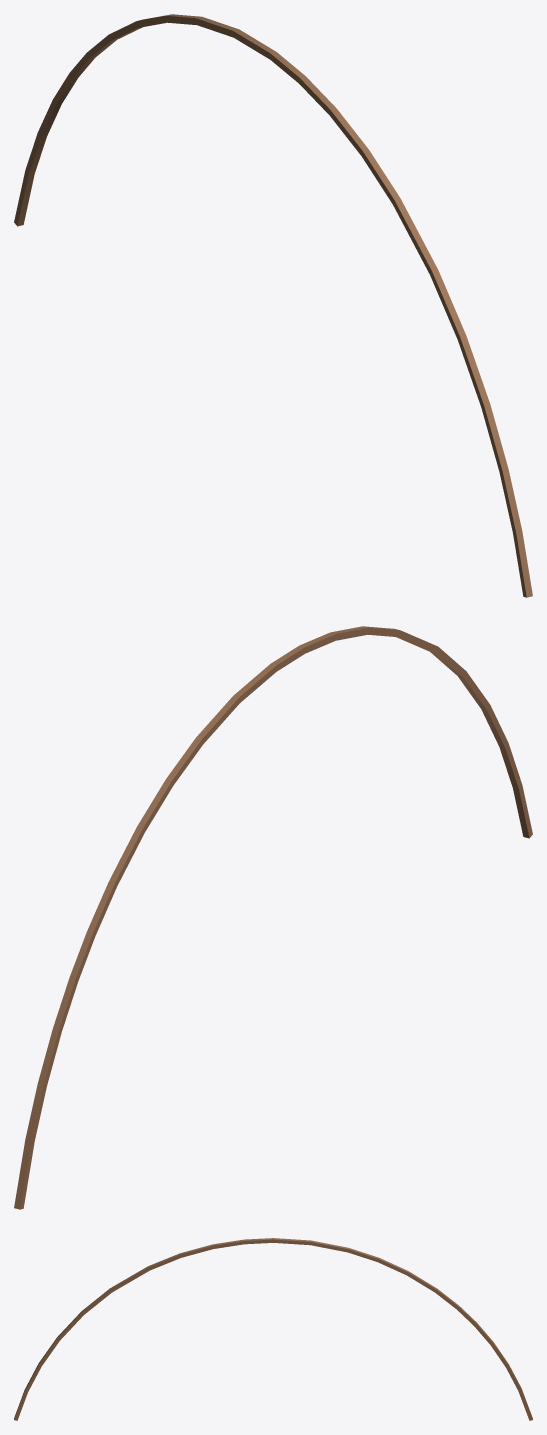
File: S_Metal_Stem_08.fbx
3 renders of one model, top to bottom at view 1: azimuth 30°, elevation 25°; view 2: azimuth 150°, elevation 25°; view 3: azimuth 270°, elevation 25°, orthographic. The views are drawn at different scales.
Visible parts, largest first — view 1: S_Metal_Stem_08; view 2: S_Metal_Stem_08; view 3: S_Metal_Stem_08.
Boxes of the visible parts, bbox=[...] form: S_Metal_Stem_08: bbox=[14, 14, 532, 597]; S_Metal_Stem_08: bbox=[14, 626, 532, 1209]; S_Metal_Stem_08: bbox=[14, 1238, 532, 1420].
Size of the model in its own units: 3.39 by 187 by 485.
